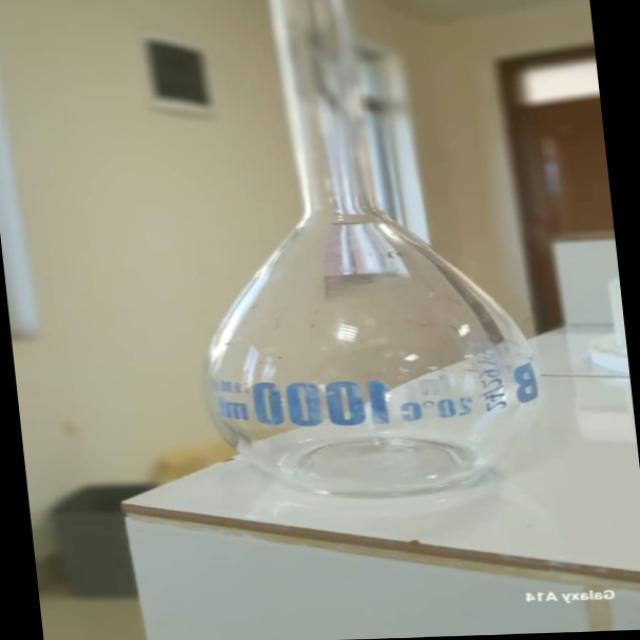Volumetric flask: (136, 0, 546, 495)
